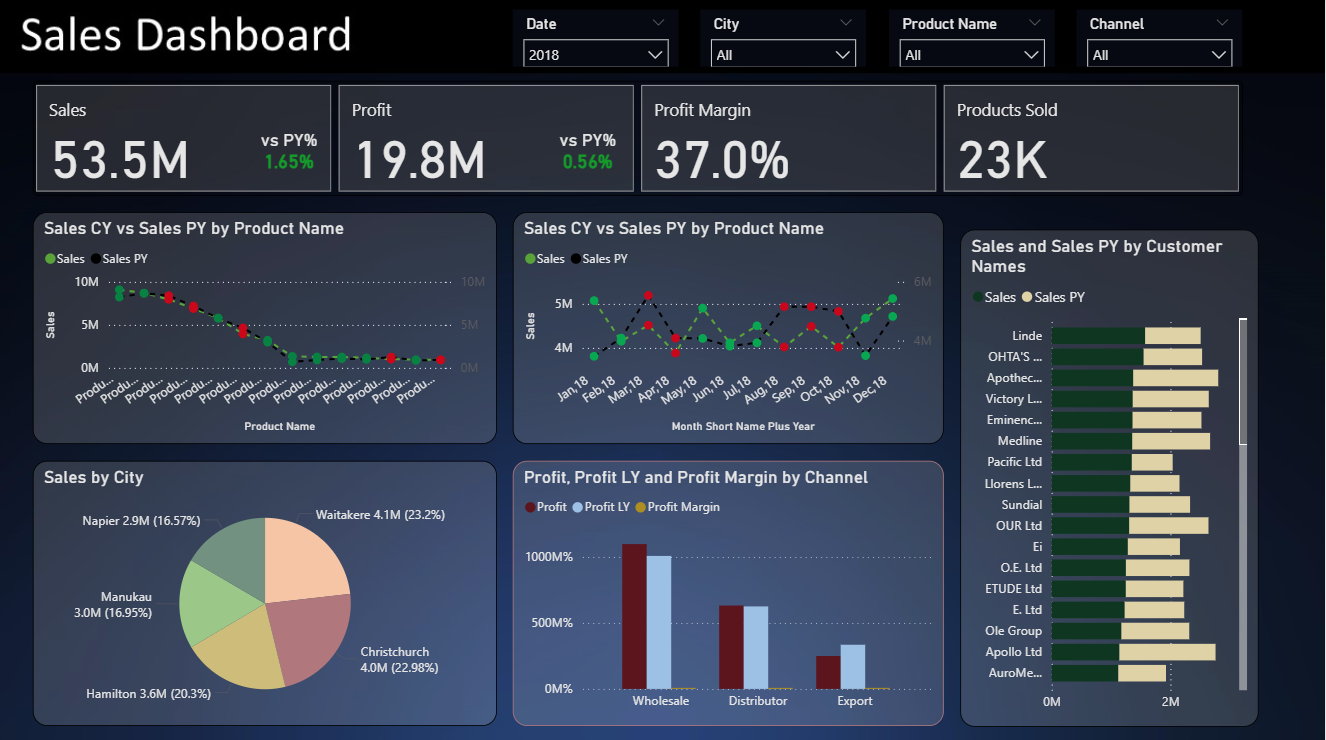

Layout of this report page (visuals, bound fields, positions):
{"tool":"powerbi","page":{"name":" Sales DashBoard 2","canvas":[1280,720],"ordinal":1},"visuals":[{"type":"slicer","fields":{"Values":["DateTable.Year","DateTable.Month Short Name Plus Year"]},"box":[496,12,160,55],"z":0},{"type":"slicer","fields":{"Values":["Regions_Table.City"]},"box":[677.3,12,160,55],"z":1000},{"type":"slicer","fields":{"Values":["Products_Data.Product Name"]},"box":[858.7,12,160,55],"z":2000},{"type":"slicer","fields":{"Values":["Sales_Data.Channel"]},"box":[1040,12,160,55],"z":3000},{"type":"areaChart","title":"Sales CY vs Sales PY by Product Name","fields":{"Category":["Products_Data.Product Name"],"Y":["Measure Table.Sales"],"Y2":["Measure Table.Sales PY"]},"box":[32,208,448,224],"z":4000},{"type":"lineChart","title":"Sales CY vs Sales PY by Product Name","fields":{"Category":["DateTable.Month Short Name Plus Year"],"Y":["Measure Table.Sales"],"Y2":["Measure Table.Sales PY"]},"box":[496,208,416,224],"z":5000},{"type":"pieChart","fields":{"Y":["Measure Table.Sales"],"Category":["Regions_Table.City"]},"box":[32,448,448,256],"z":6000},{"type":"clusteredColumnChart","fields":{"Category":["Sales_Data.Channel"],"Y":["Measure Table.Profit","Measure Table.Profit LY","Measure Table.Profit Margin"]},"box":[496,448,416,256],"z":7000},{"type":"barChart","fields":{"Y":["Measure Table.Sales","Measure Table.Sales PY"],"Category":["Customer_Data.Customer Names"]},"box":[928,224,288,480],"z":8000},{"type":"cardVisual","fields":{"Data":["Measure Table.Sales","Measure Table.Profit","Measure Table.Profit Margin","Measure Table.Products Sold"]},"box":[32.6,80.8,1167.8,111],"z":9000},{"type":"card","title":"vs PY%","fields":{"Values":["Measure Table.Sales vs py %"]},"box":[240,128,80,48],"z":10000},{"type":"card","title":"vs PY%","fields":{"Values":["Measure Table.Profit vs LY %"]},"box":[528,128,80,48],"z":11000}]}

Visuals, with their boxes in screenshot pixels (x1, y1, x2, y2), scaled from the page's 1280x720 canvas onto the 1326x740 screenshot:
slicer - DateTable.Year x DateTable.Month Short Name Plus Year: [x1=514, y1=12, x2=680, y2=69]
slicer - Regions_Table.City: [x1=702, y1=12, x2=867, y2=69]
slicer - Products_Data.Product Name: [x1=890, y1=12, x2=1055, y2=69]
slicer - Sales_Data.Channel: [x1=1077, y1=12, x2=1243, y2=69]
"Sales CY vs Sales PY by Product Name" areaChart: [x1=33, y1=214, x2=497, y2=444]
"Sales CY vs Sales PY by Product Name" lineChart: [x1=514, y1=214, x2=945, y2=444]
pieChart - Measure Table.Sales x Regions_Table.City: [x1=33, y1=460, x2=497, y2=724]
clusteredColumnChart - Sales_Data.Channel x Measure Table.Profit: [x1=514, y1=460, x2=945, y2=724]
barChart - Measure Table.Sales x Measure Table.Sales PY: [x1=961, y1=230, x2=1260, y2=724]
cardVisual - Measure Table.Sales x Measure Table.Profit: [x1=34, y1=83, x2=1244, y2=197]
"vs PY%" card: [x1=249, y1=132, x2=332, y2=181]
"vs PY%" card: [x1=547, y1=132, x2=630, y2=181]
